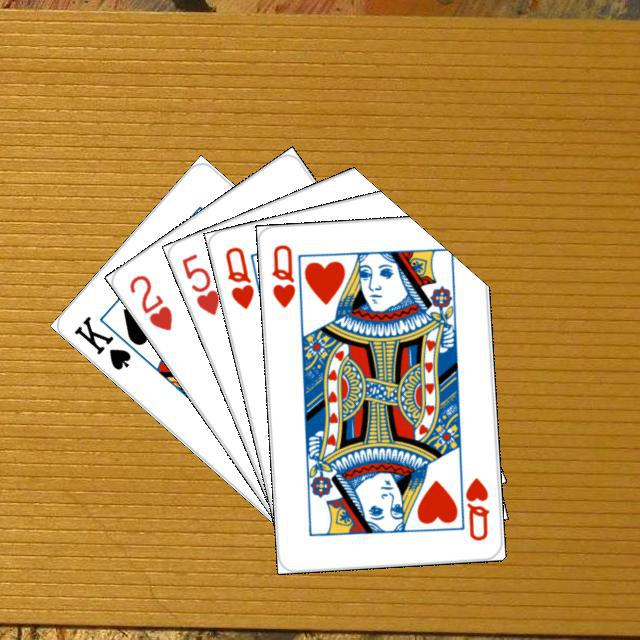2h: (124, 269, 175, 333)
5h: (176, 248, 221, 317)
Ks: (69, 310, 133, 372)
Qh: (454, 466, 491, 542), (220, 241, 256, 311), (266, 239, 297, 310)
